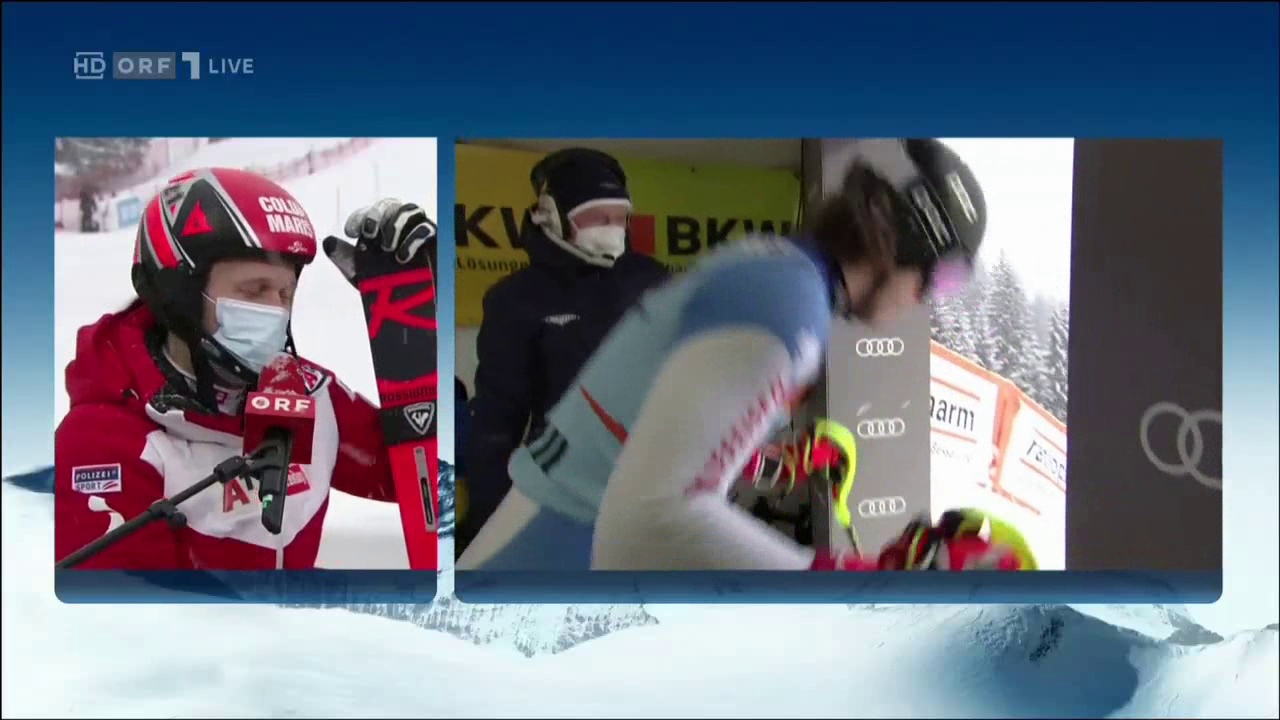a1: (219, 476, 266, 513)
audi: (1139, 398, 1224, 507), (855, 414, 913, 446), (852, 338, 912, 367), (855, 496, 911, 525)
